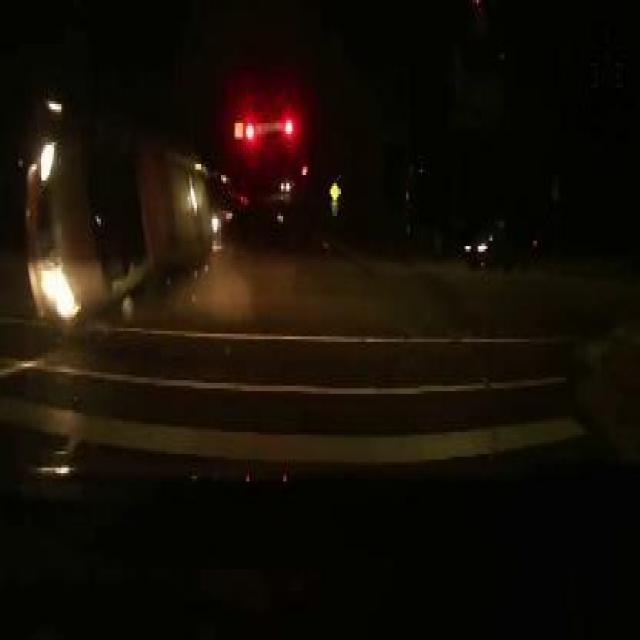accident: (22, 110, 215, 328)
